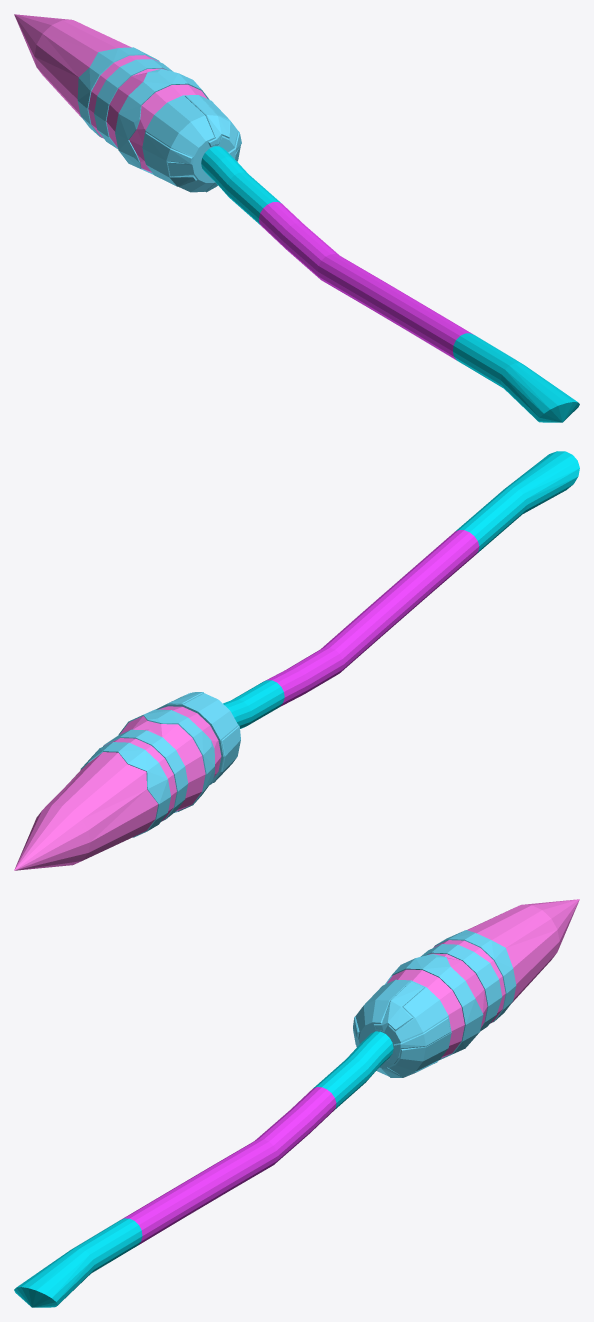
The model's file is baby_broom.obj.
3 renders of one model, top to bottom at view 1: azimuth 30°, elevation 25°; view 2: azimuth 150°, elevation 25°; view 3: azimuth 330°, elevation 25°, orthographic.
Visible parts, largest first — view 1: Body; view 2: Body; view 3: Body.
Boxes of the visible parts, x1,y1,x2,y2 form: Body: (14,14,579,422); Body: (14,451,579,870); Body: (14,899,579,1307).
Bounding box in the file's own units: 0.319 × 0.3131 × 3.33.
